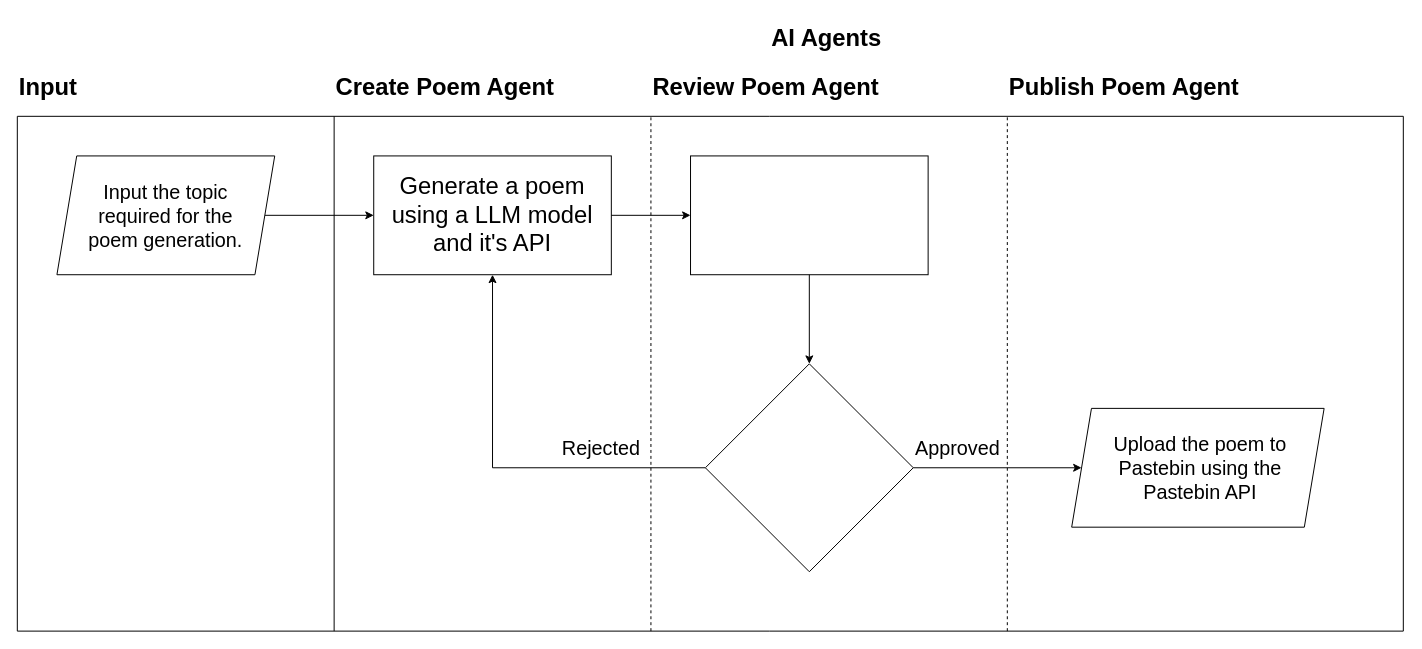
Image size: 1422x649. Some labels were removed from this diagram. Each missing label, with the box of its shape:
Check strictly if the poem is good enough to be published.: (690, 155, 928, 275)
Is the poem good enough?: (704, 363, 913, 572)
